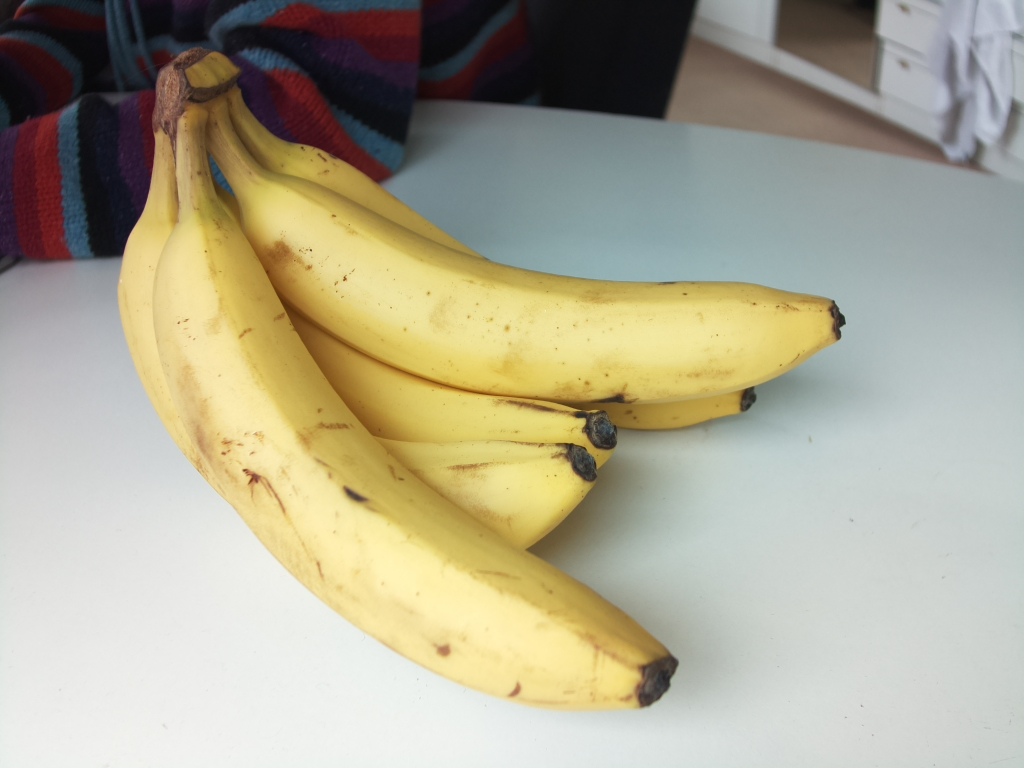banana: (156, 56, 677, 717), (180, 52, 847, 405), (115, 66, 596, 552), (210, 59, 754, 433), (173, 66, 615, 470)
